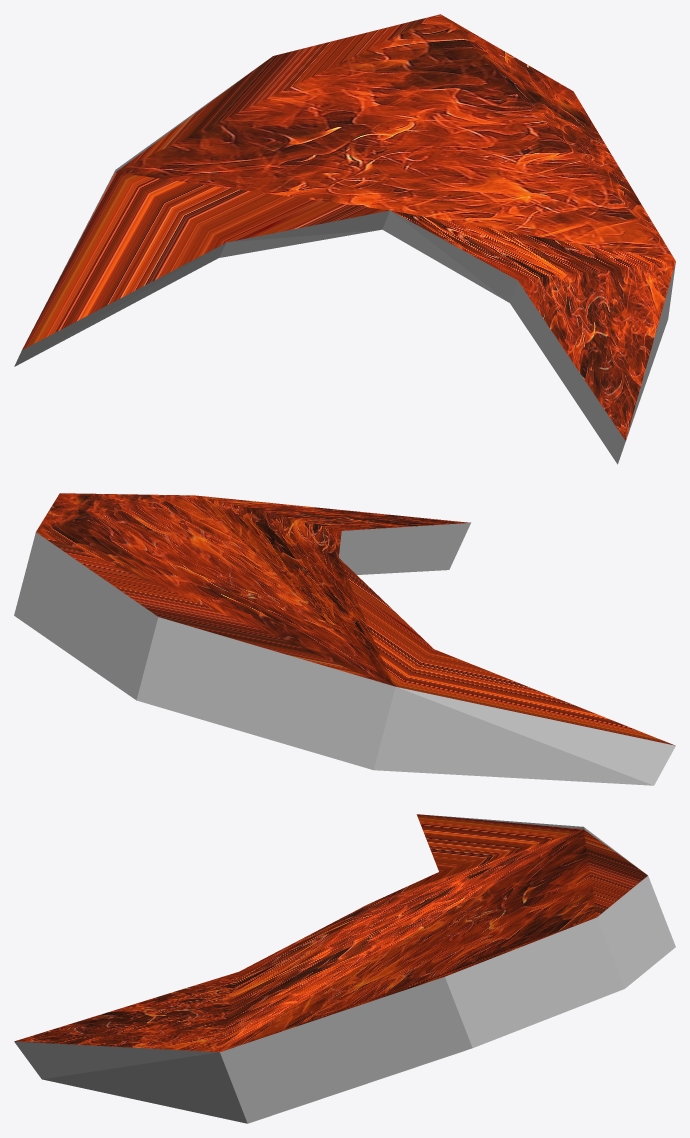
Rendered from kitev2.obj.
The picture shows the model from 3 angles, top to bottom: view 1: azimuth 30°, elevation 25°; view 2: azimuth 150°, elevation 25°; view 3: azimuth 270°, elevation 25°; orthographic projection. The views are drawn at different scales.
Parts seen in each view (by area): view 1: Plane.011_Material, Plane.004_Material.002, Plane.003_Material.002, Plane.002_Material.002, Plane.001_Material.001, Plane.005_Material.002; view 2: Plane.011_Material, Plane.009_Material.002, Plane.010_Material.002, Plane.008_Material.002, Plane.004_Material.002; view 3: Plane.011_Material, Plane.006_Material.002, Plane.007_Material.002, Plane.005_Material.002, Plane.008_Material.002.
Part boxes in pixels (<box>): Plane.011_Material: <box>22,14,675,440</box>; Plane.004_Material.002: <box>510,281,625,464</box>; Plane.003_Material.002: <box>382,210,517,302</box>; Plane.002_Material.002: <box>219,210,389,257</box>; Plane.001_Material.001: <box>14,242,226,366</box>; Plane.005_Material.002: <box>622,262,675,451</box>; Plane.011_Material: <box>36,493,674,745</box>; Plane.009_Material.002: <box>136,617,395,769</box>; Plane.010_Material.002: <box>374,687,675,785</box>; Plane.008_Material.002: <box>14,532,158,700</box>; Plane.004_Material.002: <box>339,523,470,574</box>; Plane.011_Material: <box>14,814,647,1052</box>; Plane.006_Material.002: <box>220,977,472,1123</box>; Plane.007_Material.002: <box>445,917,624,1047</box>; Plane.005_Material.002: <box>14,1041,247,1123</box>; Plane.008_Material.002: <box>597,876,675,988</box>.
Bounding box in the file's own units: 1.69 × 0.6125 × 1.73.
